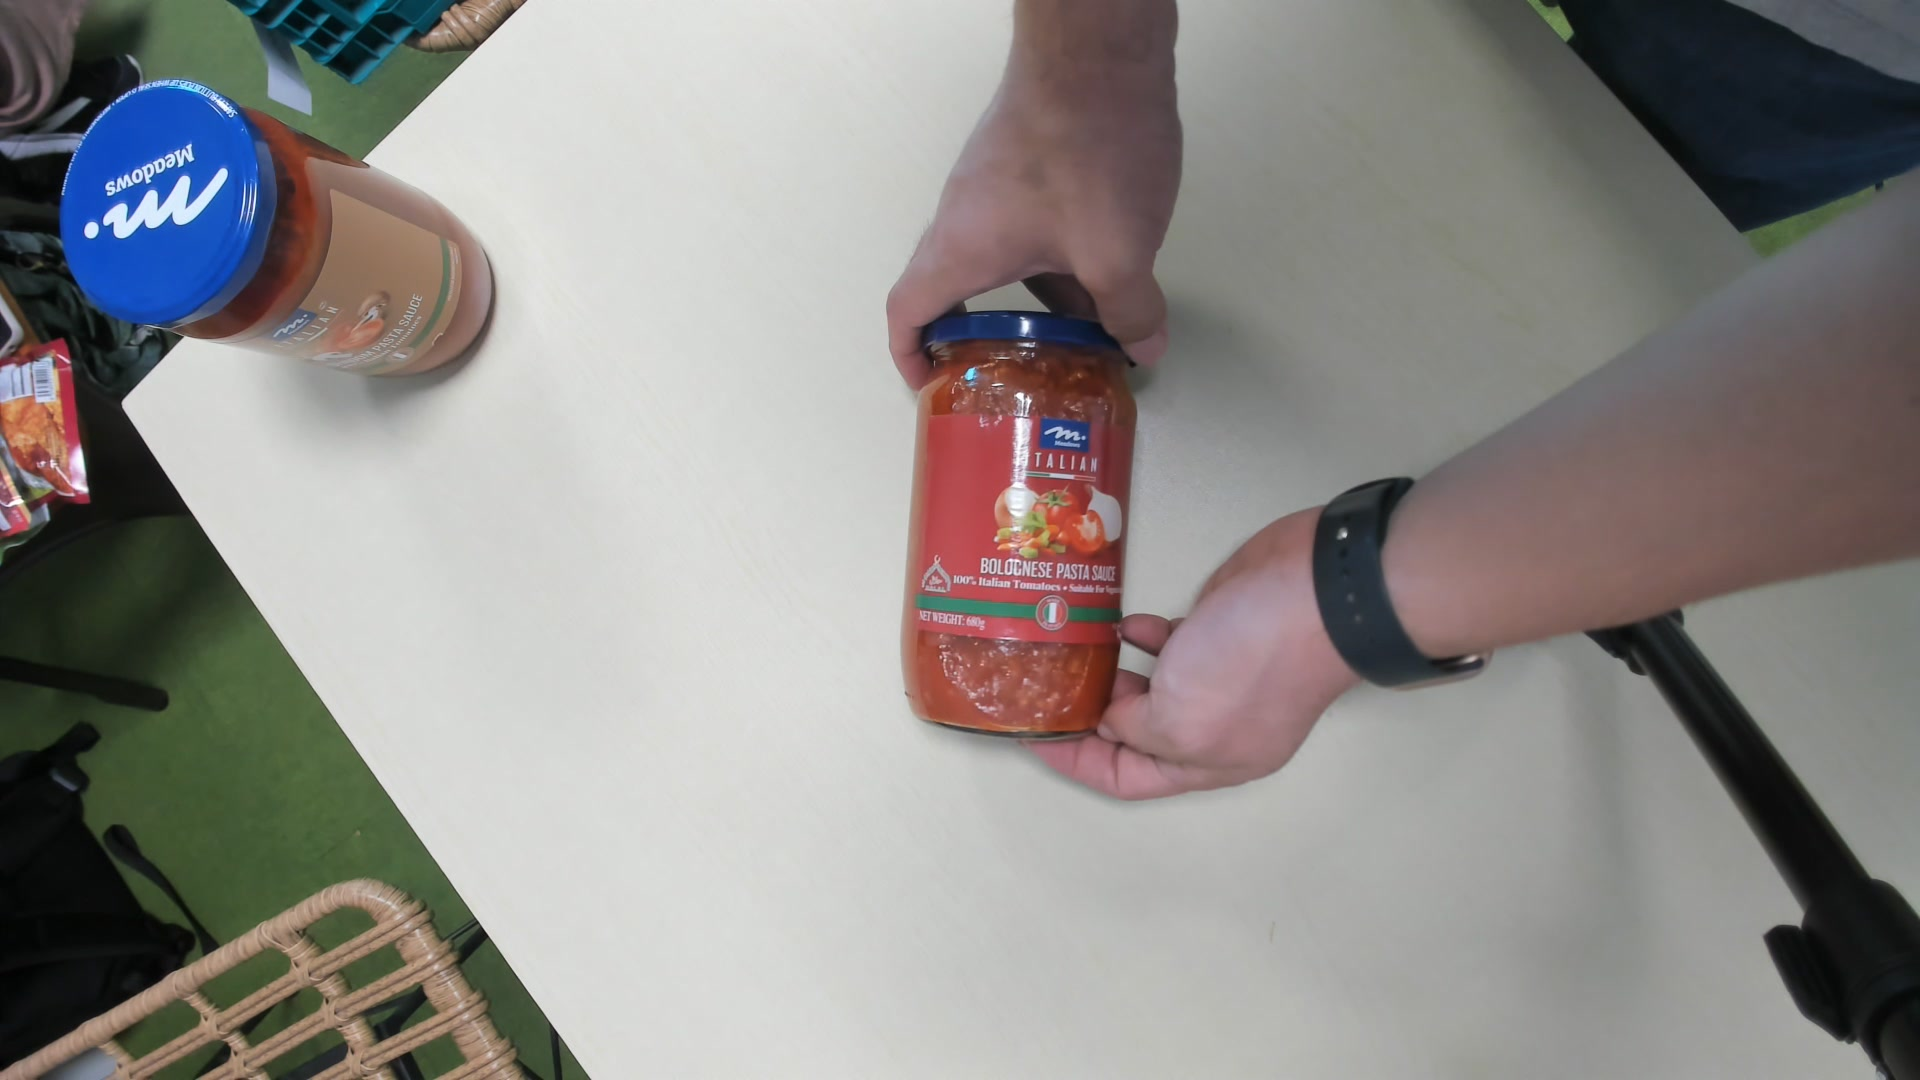PastaSauce_600-699g_Halal_NonHealthy: (891, 316, 1138, 735)
